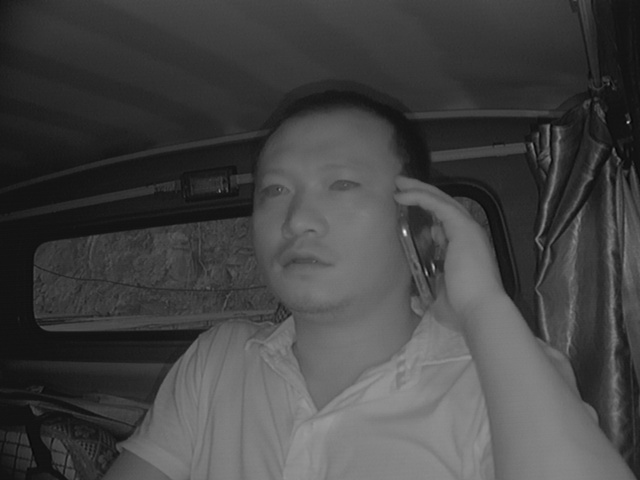hand: (392, 173, 508, 315)
